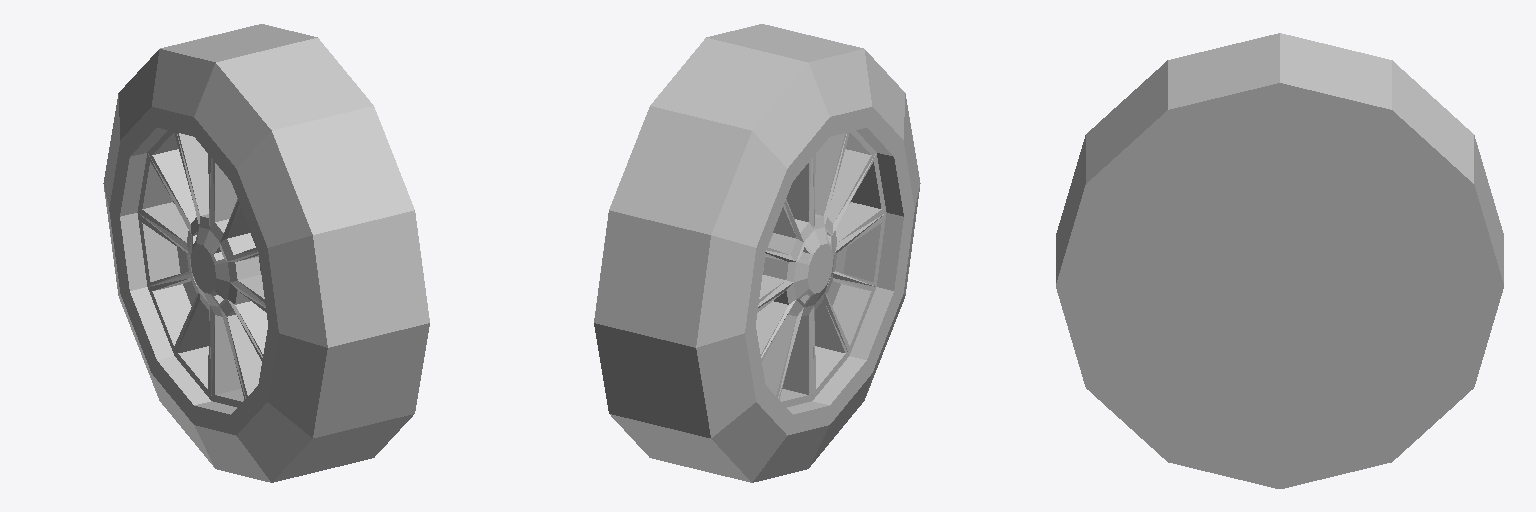
File: SportsCar2_FrontRightWheel_Cylinder.002.obj
The picture shows the model from 3 angles: view 1: azimuth 30°, elevation 25°; view 2: azimuth 150°, elevation 25°; view 3: azimuth 270°, elevation 25°; orthographic projection.
Parts seen in each view (by area): view 1: SportsCar2_FrontRightWheel_Cylinder.002; view 2: SportsCar2_FrontRightWheel_Cylinder.002; view 3: SportsCar2_FrontRightWheel_Cylinder.002.
Boxes of the visible parts, x1,y1,x2,y2 form: SportsCar2_FrontRightWheel_Cylinder.002: [103, 24, 429, 482]; SportsCar2_FrontRightWheel_Cylinder.002: [594, 24, 920, 482]; SportsCar2_FrontRightWheel_Cylinder.002: [1056, 33, 1503, 488].
Bounding box in the file's own units: 21.44 × 67.29 × 67.29.